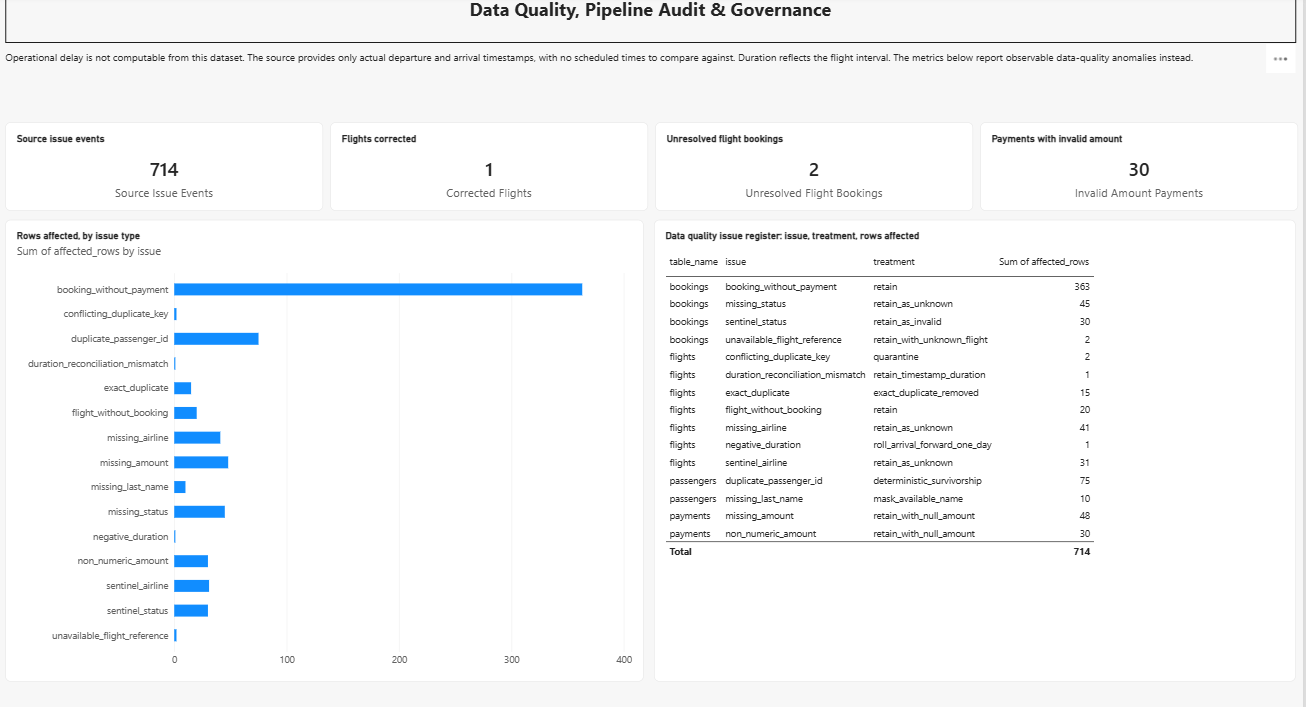

The dashboard page shown, as its layout file describes it:
{"tool":"powerbi","page":{"name":"Data Quality & Anomalies","canvas":[1920,1080],"ordinal":3},"visuals":[{"type":"textbox","box":[10,0,1900,70],"z":0},{"type":"textbox","box":[10,80,1900,95],"z":0},{"type":"card","title":"Source issue events","fields":{"Values":["_Measures.Source Issue Events"]},"box":[10,185,468,130],"z":100},{"type":"card","title":"Flights corrected","fields":{"Values":["_Measures.Corrected Flights"]},"box":[488,185,468,130],"z":101},{"type":"card","title":"Unresolved flight bookings","fields":{"Values":["_Measures.Unresolved Flight Bookings"]},"box":[966,185,468,130],"z":102},{"type":"card","title":"Payments with invalid amount","fields":{"Values":["_Measures.Invalid Amount Payments"]},"box":[1444,185,468,130],"z":103},{"type":"clusteredBarChart","title":"Rows affected, by issue type","fields":{"Category":["dq_issue_summary.issue"],"Y":["Sum(dq_issue_summary.affected_rows)"]},"box":[10,330,940,680],"z":200},{"type":"tableEx","title":"Data quality issue register: issue, treatment, rows affected","fields":{"Values":["dq_issue_summary.table_name","dq_issue_summary.issue","dq_issue_summary.treatment","Sum(dq_issue_summary.affected_rows)"]},"box":[965,330,945,680],"z":210}]}

Visuals, with their boxes on the page's 1920x1080 design canvas (x1, y1, x2, y2). These are canvas units, not pixel positions in the 1306x707 screenshot, which may show the page scaled, cropped or inside an application window:
textbox: 10, 0, 1910, 70
textbox: 10, 80, 1910, 175
"Source issue events" card: 10, 185, 478, 315
"Flights corrected" card: 488, 185, 956, 315
"Unresolved flight bookings" card: 966, 185, 1434, 315
"Payments with invalid amount" card: 1444, 185, 1912, 315
"Rows affected, by issue type" clusteredBarChart: 10, 330, 950, 1010
"Data quality issue register: issue, treatment, rows affected" tableEx: 965, 330, 1910, 1010
